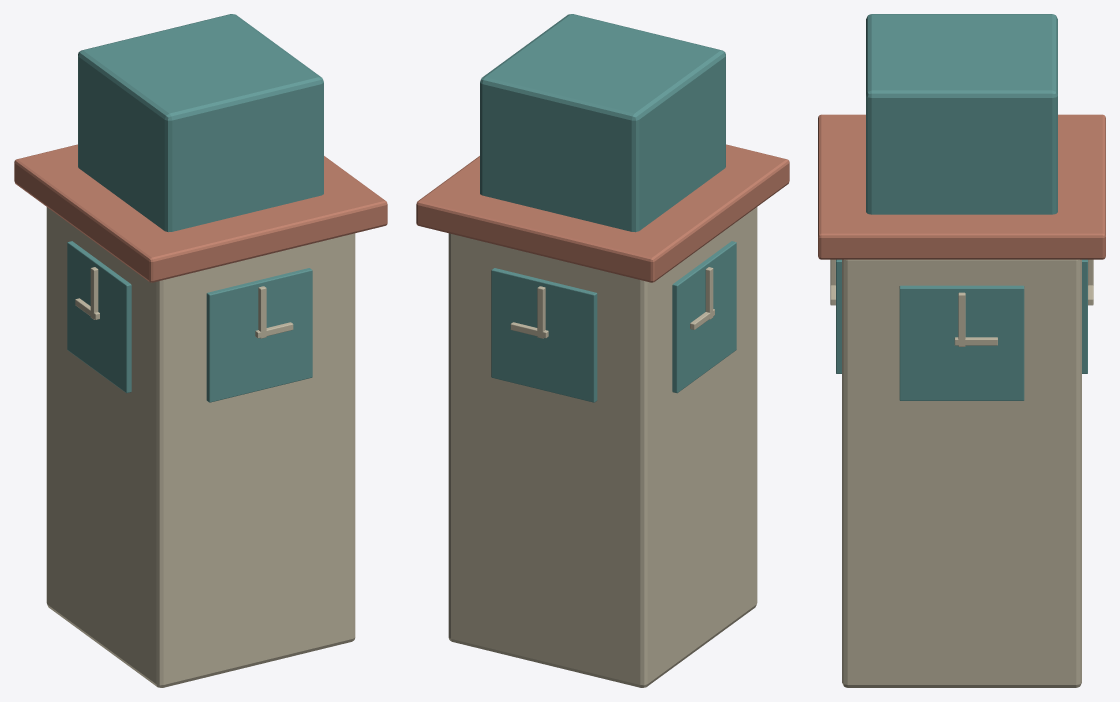
Rendered from prop_clock_tower.glb.
The picture shows the model from 3 angles, left to right: view 1: azimuth 30°, elevation 25°; view 2: azimuth 150°, elevation 25°; view 3: azimuth 270°, elevation 25°; orthographic projection. The views are drawn at different scales.
Parts seen in each view (by area): view 1: scenery_cream, scenery_teal, scenery_coral; view 2: scenery_cream, scenery_teal, scenery_coral; view 3: scenery_cream, scenery_teal, scenery_coral.
Boxes of the visible parts, left/top/right/bottom form: scenery_cream: left=46, top=207, right=355, bottom=687; scenery_teal: left=67, top=14, right=323, bottom=402; scenery_coral: left=14, top=144, right=387, bottom=282; scenery_cream: left=448, top=207, right=757, bottom=687; scenery_teal: left=480, top=14, right=736, bottom=402; scenery_coral: left=416, top=144, right=789, bottom=282; scenery_cream: left=830, top=259, right=1093, bottom=687; scenery_teal: left=836, top=14, right=1087, bottom=400; scenery_coral: left=818, top=114, right=1105, bottom=259.
Bounding box in the file's own units: 6 × 13.5 × 6.
